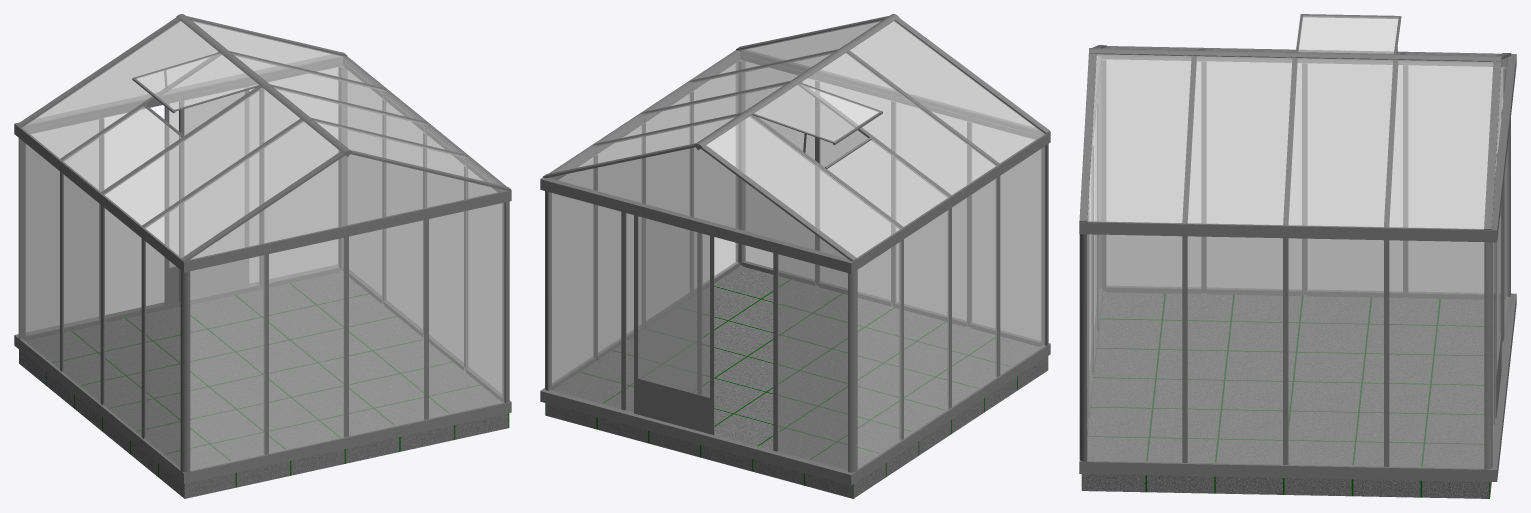
The model's file is greenhouse.glb.
3 renders of one model, left to right at view 1: azimuth 30°, elevation 25°; view 2: azimuth 150°, elevation 25°; view 3: azimuth 270°, elevation 25°, orthographic. The views are drawn at different scales.
Parts seen in each view (by area): view 1: Object_4, Object_3, Object_2; view 2: Object_4, Object_2, Object_3; view 3: Object_4, Object_3, Object_2.
Part boxes in pixels (box(x1,y1,x2,y2)): Object_4: box(21, 20, 504, 470); Object_3: box(19, 271, 509, 498); Object_2: box(14, 14, 511, 483); Object_4: box(549, 20, 1044, 470); Object_2: box(540, 14, 1050, 485); Object_3: box(545, 265, 1048, 498); Object_4: box(1087, 15, 1508, 468); Object_3: box(1081, 291, 1505, 498); Object_2: box(1079, 14, 1516, 481).
Bounding box in the file's own units: 207 × 185 × 207.
Materials: 3 (1 with a texture image).
